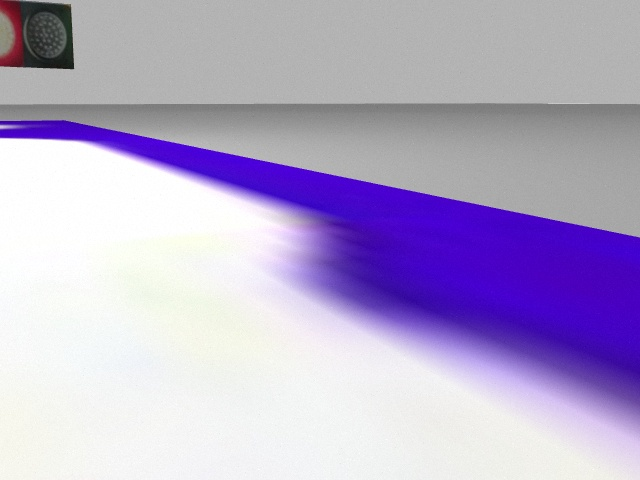red: (1, 1, 18, 63)
